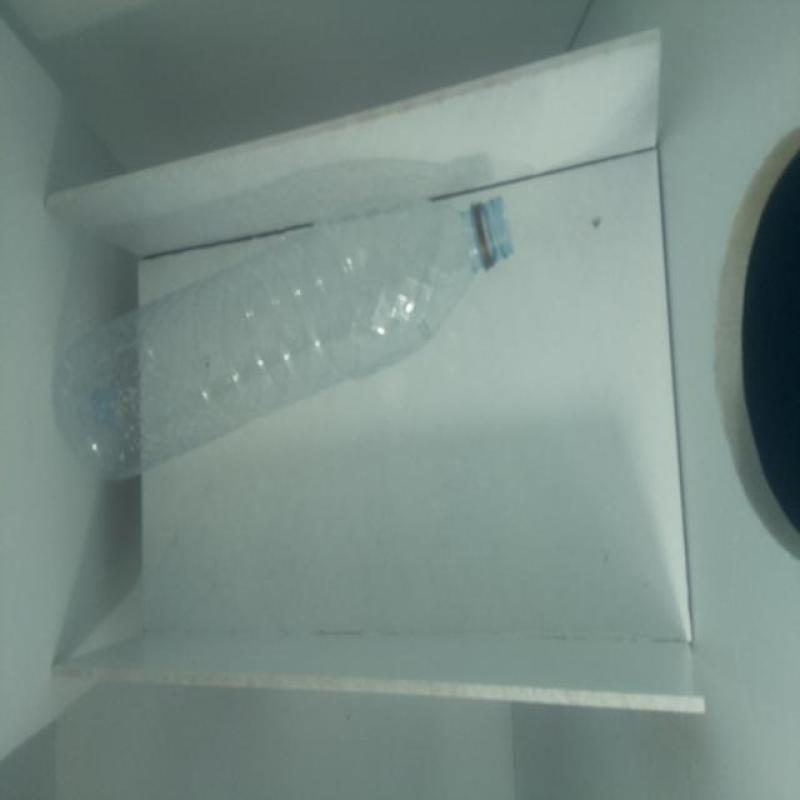botella: (52, 195, 518, 480)
